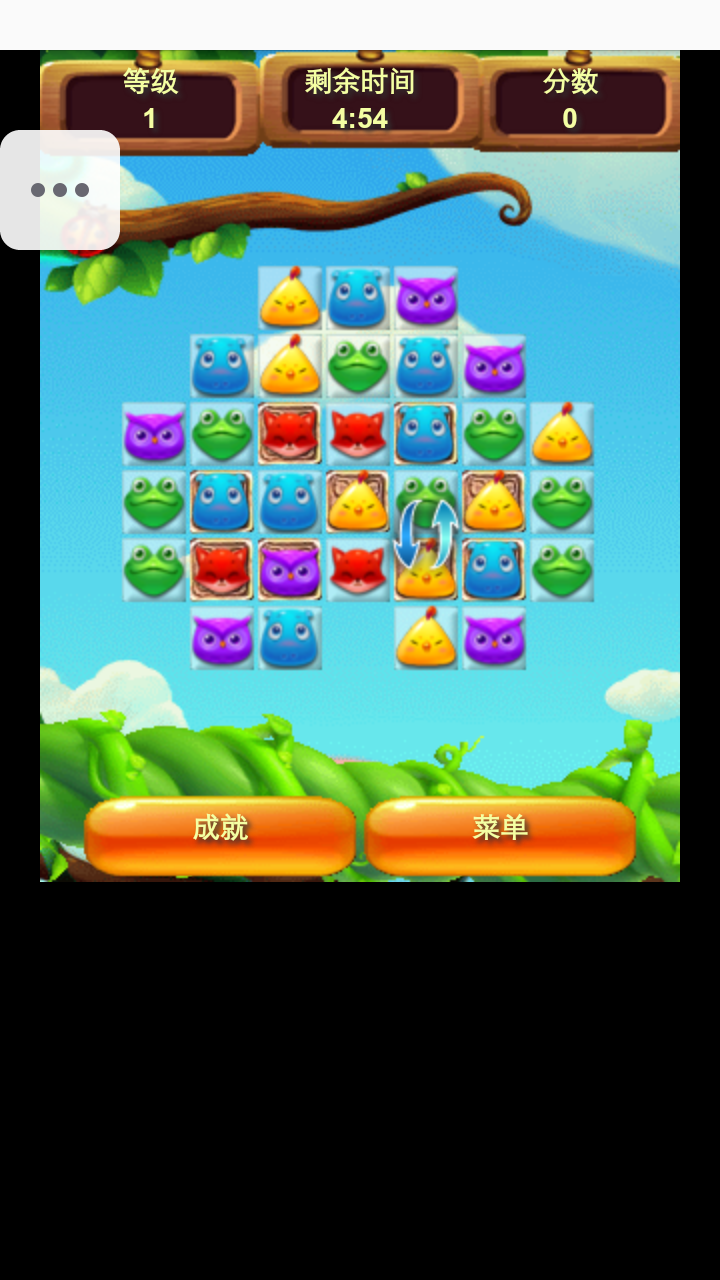button: (79, 792, 363, 877), (359, 794, 641, 875)
imgview: (33, 53, 697, 899)
